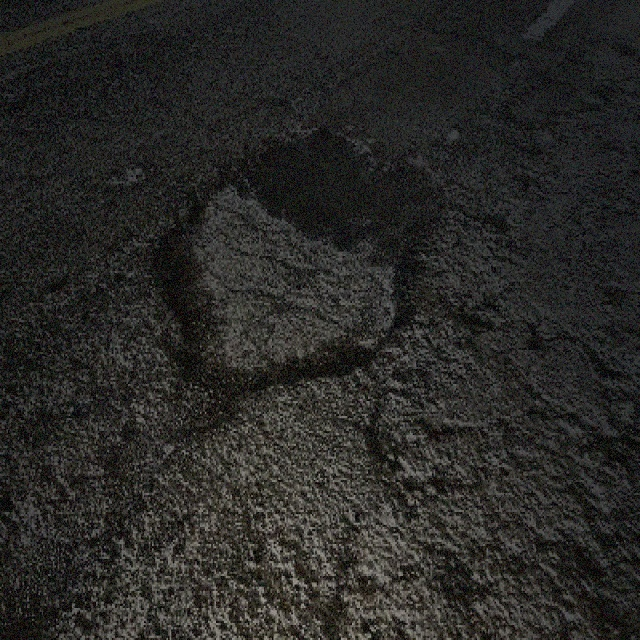pothole: (147, 117, 445, 433)
